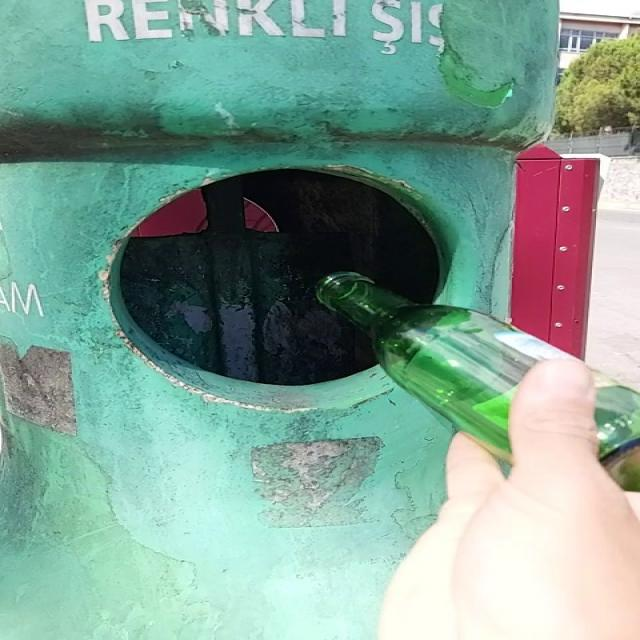glass: (319, 274, 574, 460), (599, 377, 640, 492)
